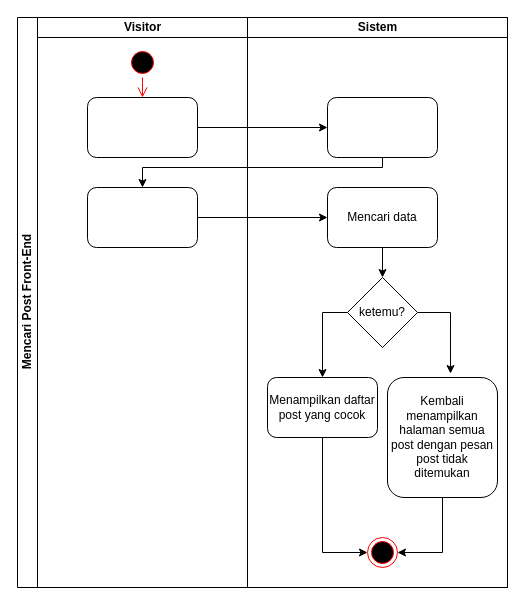
This 525x605 diagram has some shape labels left out. The shapes that lost their labels are listed below. From the top down, each one's centre as x and y in pixels, then its label:
the point at 142,127: Membuka website
the point at 382,127: Menampilkan semua post di halaman front-end
the point at 142,217: Mencari post
